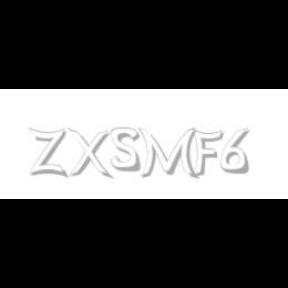6: (220, 128, 250, 176)
F: (191, 128, 223, 178)
M: (138, 128, 197, 180)
S: (110, 128, 142, 172)
X: (67, 128, 111, 180)
Z: (30, 128, 66, 178)
